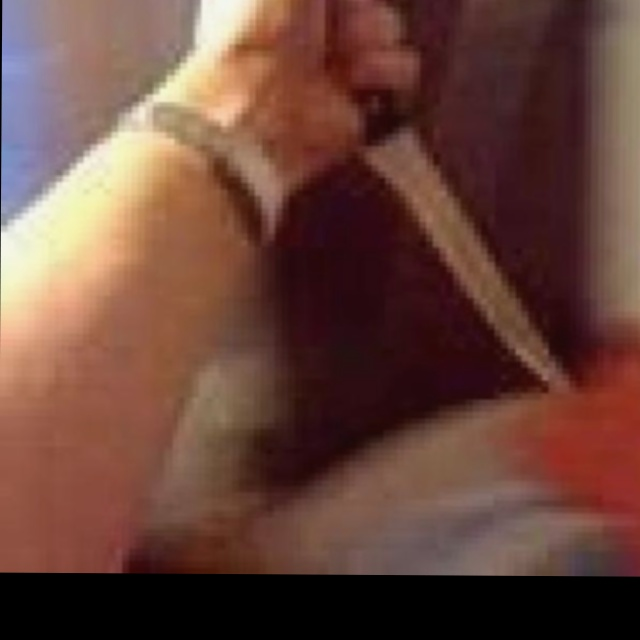Sharp-Object: (360, 97, 575, 401)
